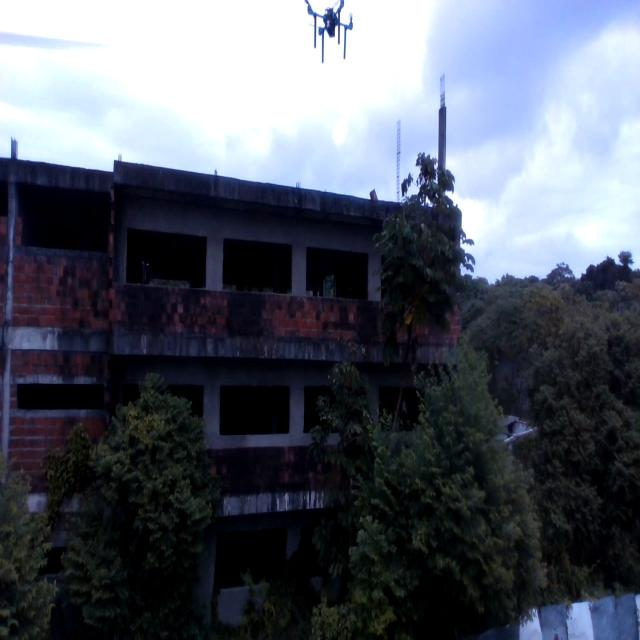-uav-: (299, 0, 362, 68)
